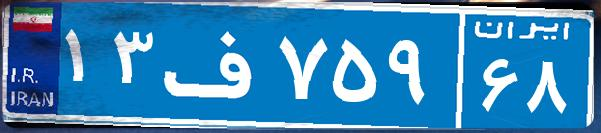1: (57, 26, 110, 107)
3: (110, 28, 158, 105)
5: (330, 28, 385, 110)
6: (475, 38, 525, 113)
7: (273, 28, 330, 110)
8: (525, 38, 570, 115)
9: (385, 28, 445, 110)
ف: (158, 15, 273, 115)
